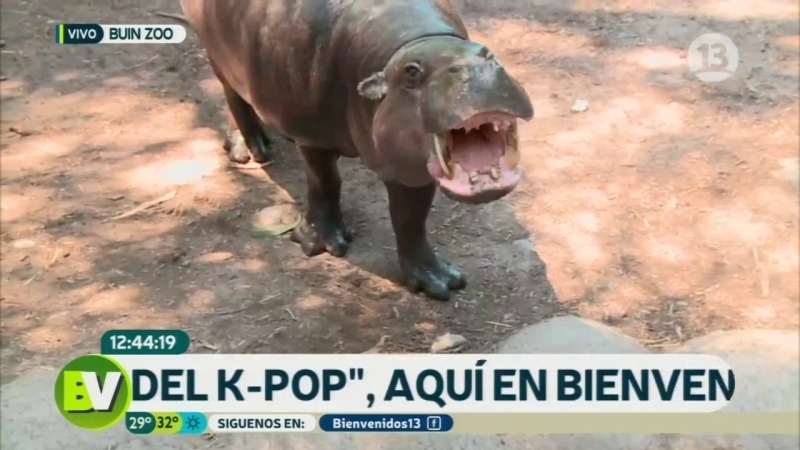hipopotamo: (167, 1, 577, 310)
